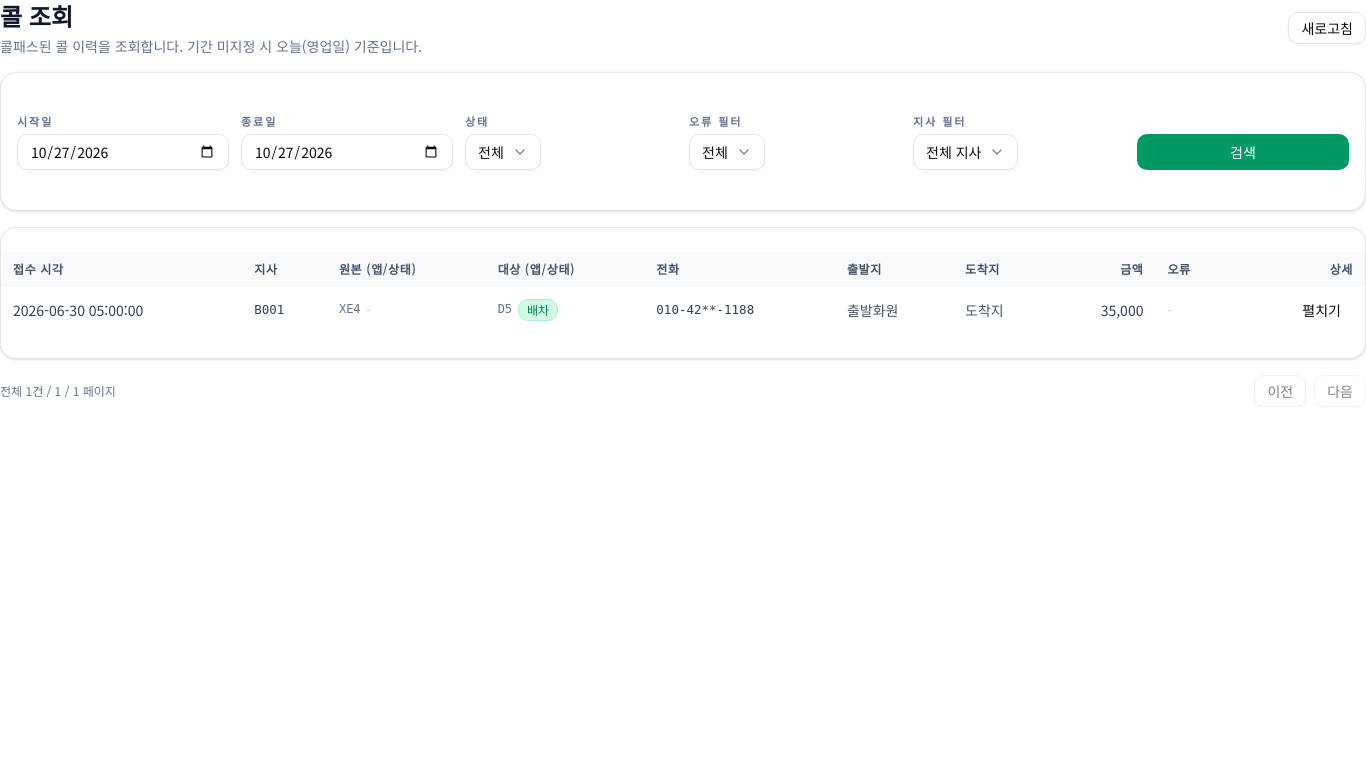
AircpmCallsPage › super: 로그 404 → 로그 없음 안내
This screenshot has width=1366, height=768.
Expected: the text "010-42**-1188" is shown, [644,285,835,334]
Click the button "펼치기": [1322, 310] box [1290,294,1353,326]
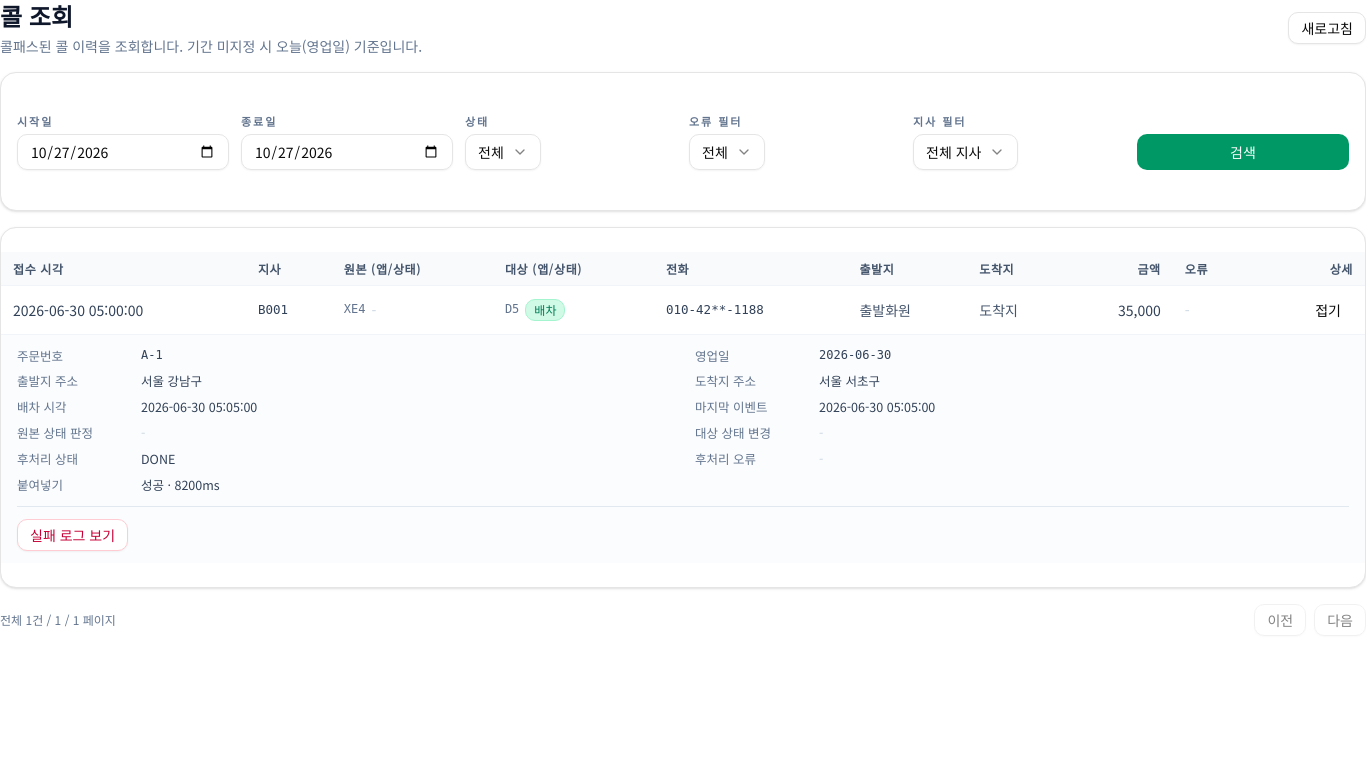
Click the button "실패 로그 보기": [73, 535] box [17,519,128,551]
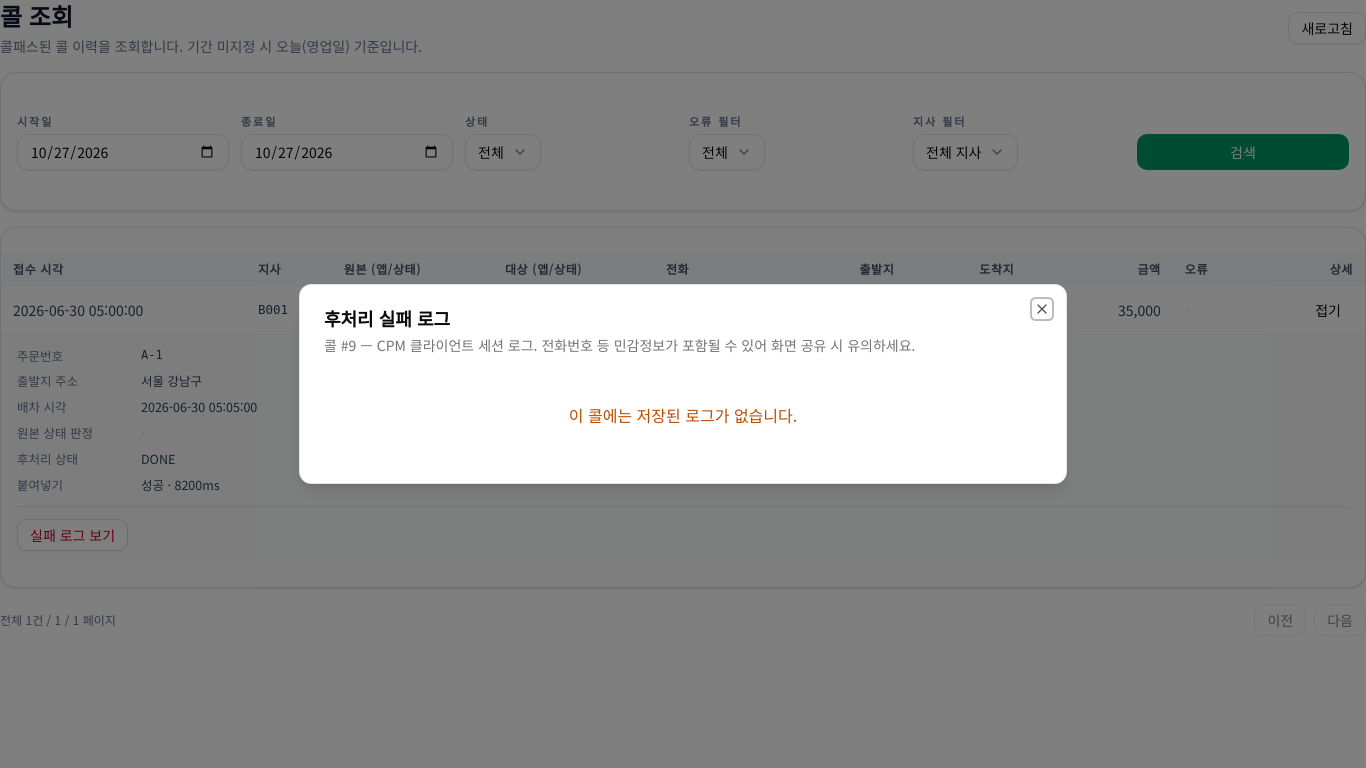
Result: the text "이 콜에는 저장된 로그가 없습니다." is shown at [569,403,797,427]
